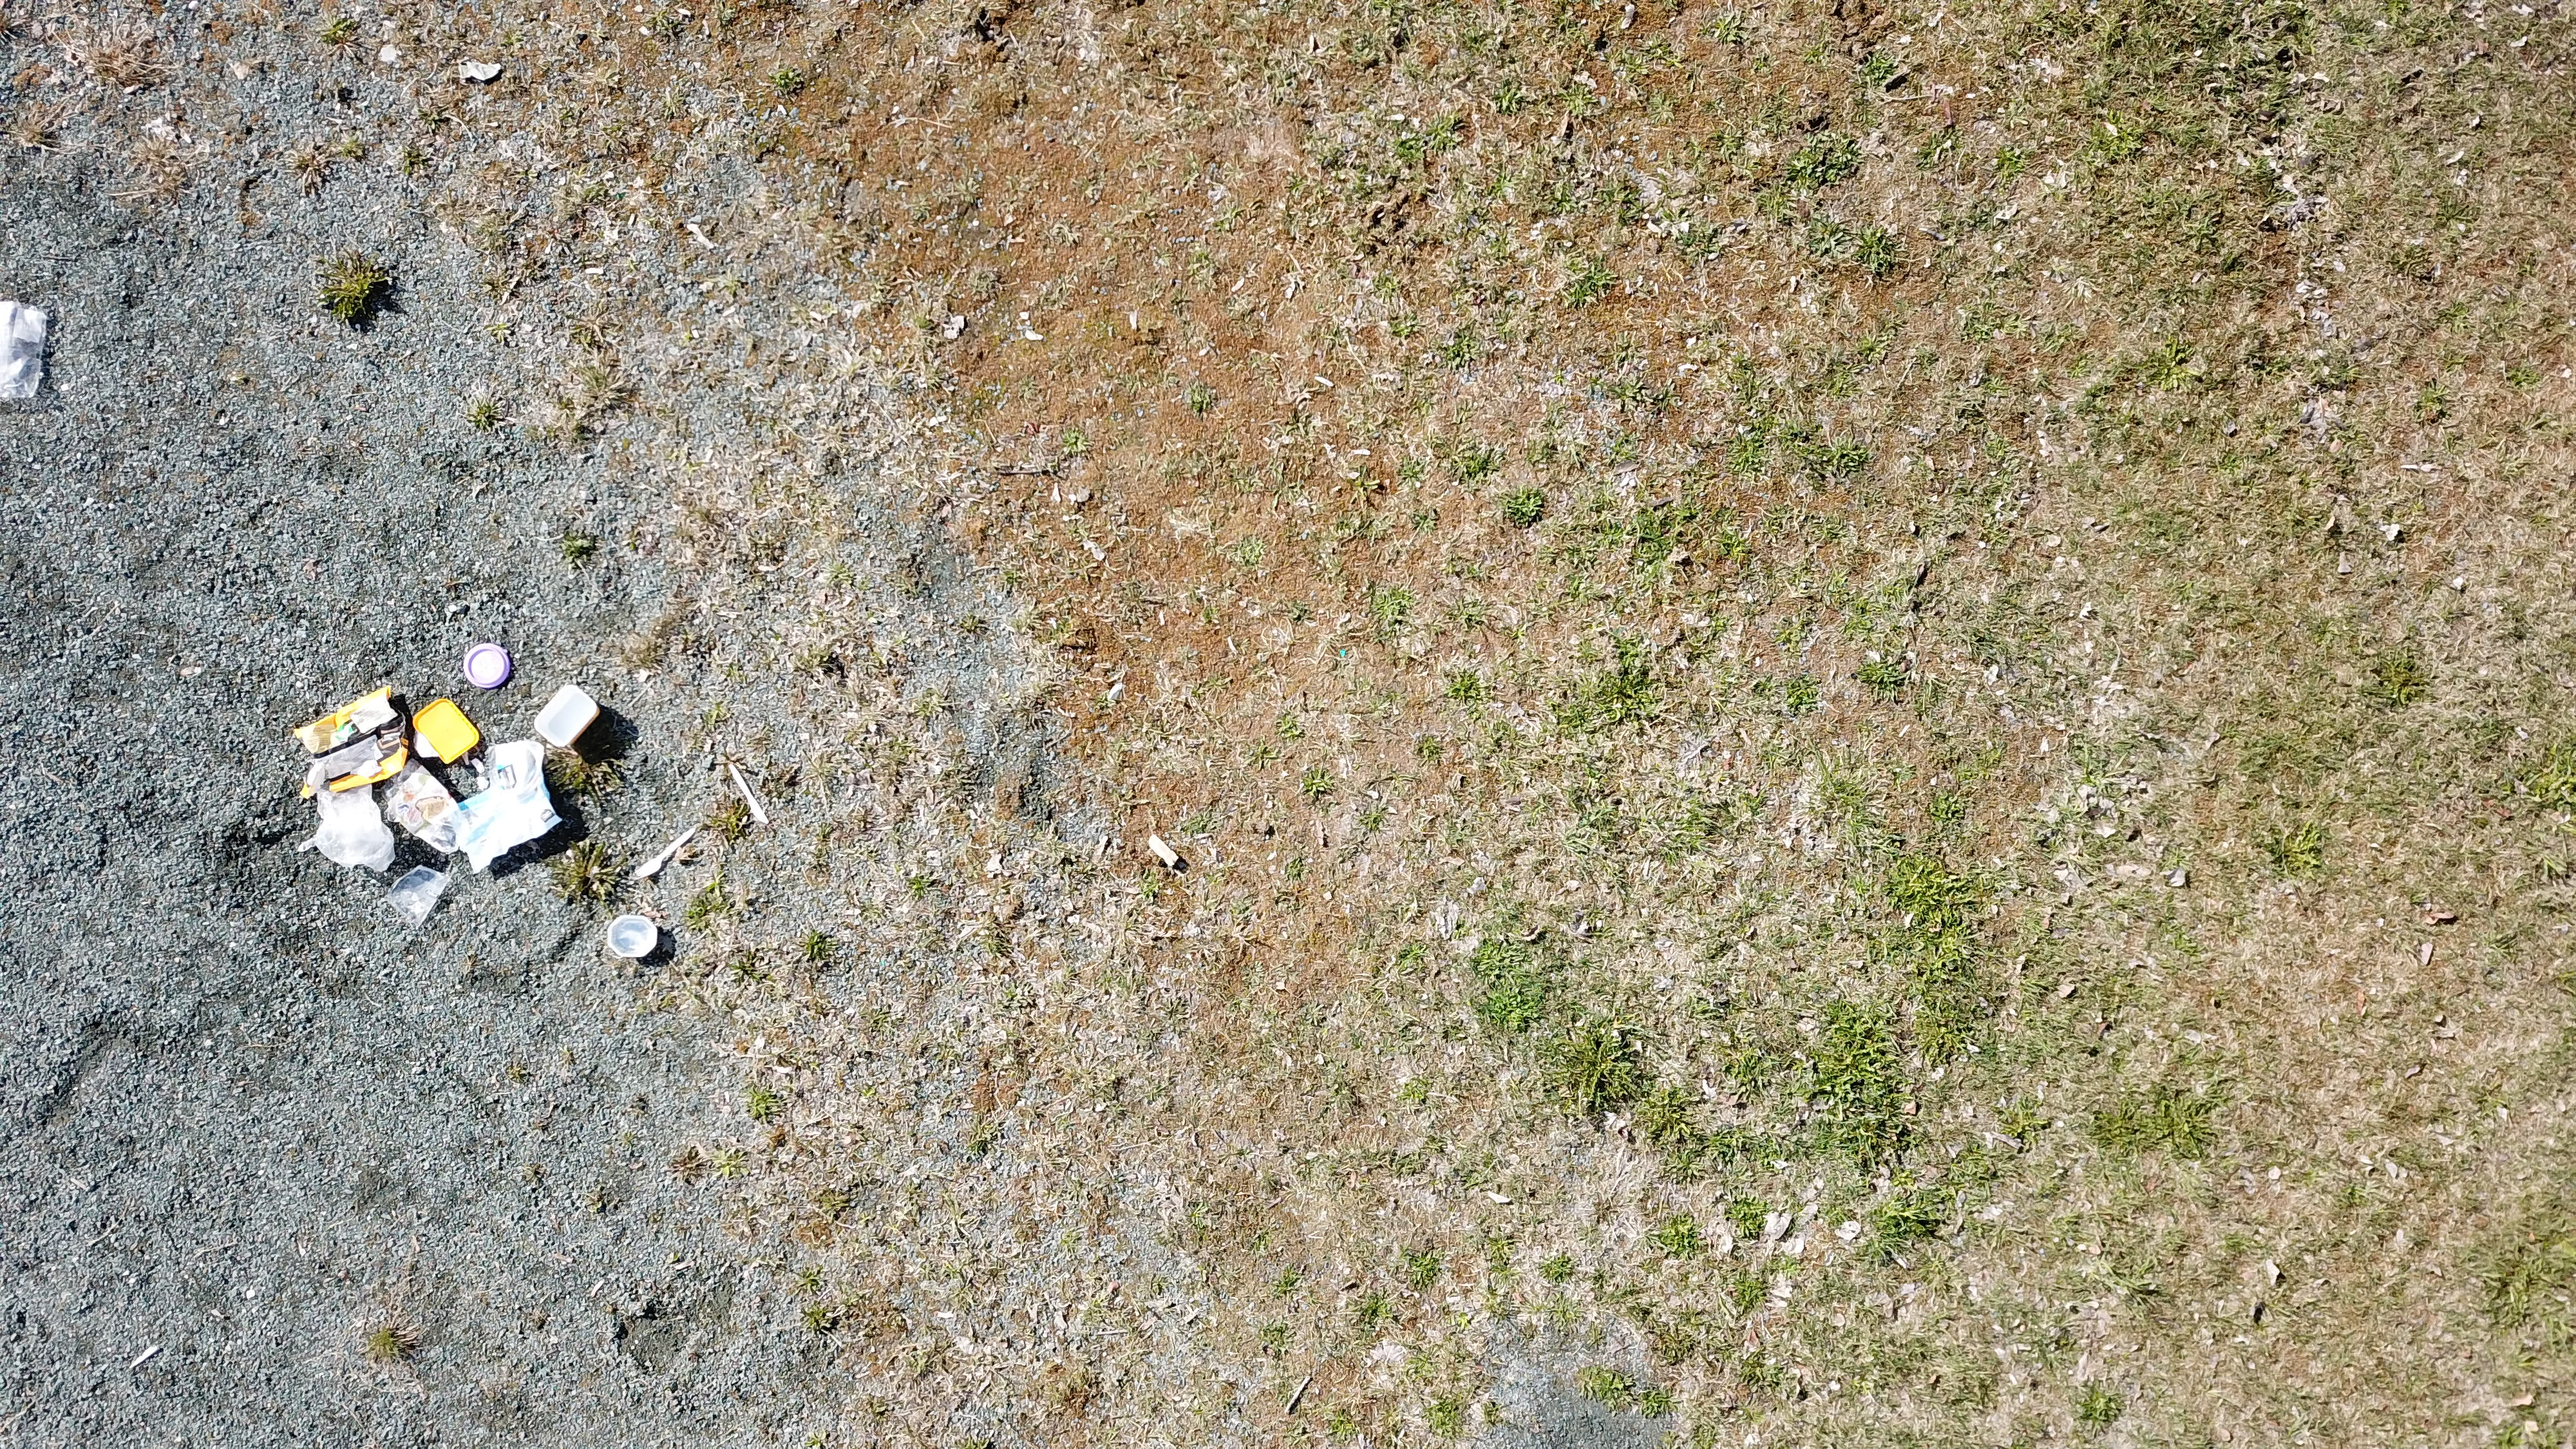Plastic: (294, 686, 407, 798), (448, 771, 563, 870), (299, 786, 398, 878), (389, 763, 465, 856), (412, 685, 485, 764), (0, 299, 57, 400), (534, 686, 602, 750), (389, 867, 455, 929), (483, 743, 547, 798), (639, 826, 697, 879), (729, 764, 770, 824), (609, 915, 656, 959), (465, 644, 511, 688)
